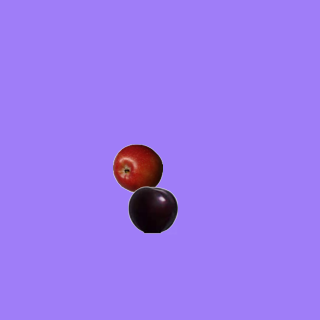Apple Braeburn: (112, 143, 162, 193)
Cherry Wax Black: (127, 184, 177, 234)
